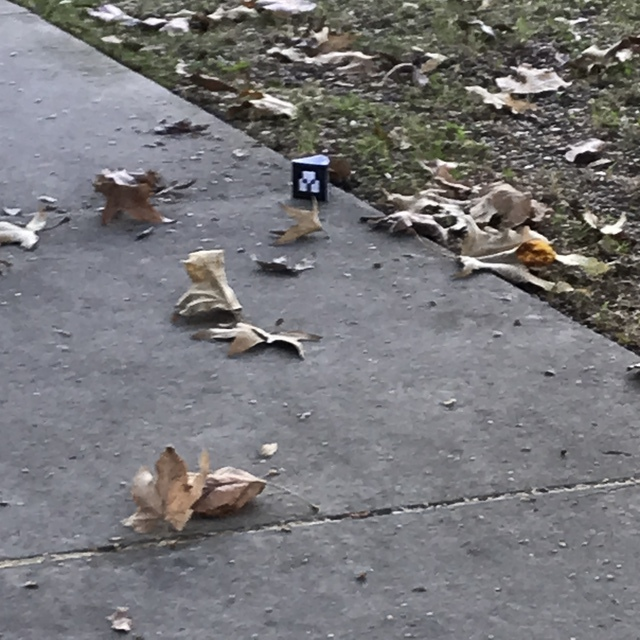ARTag: (291, 152, 331, 202)
